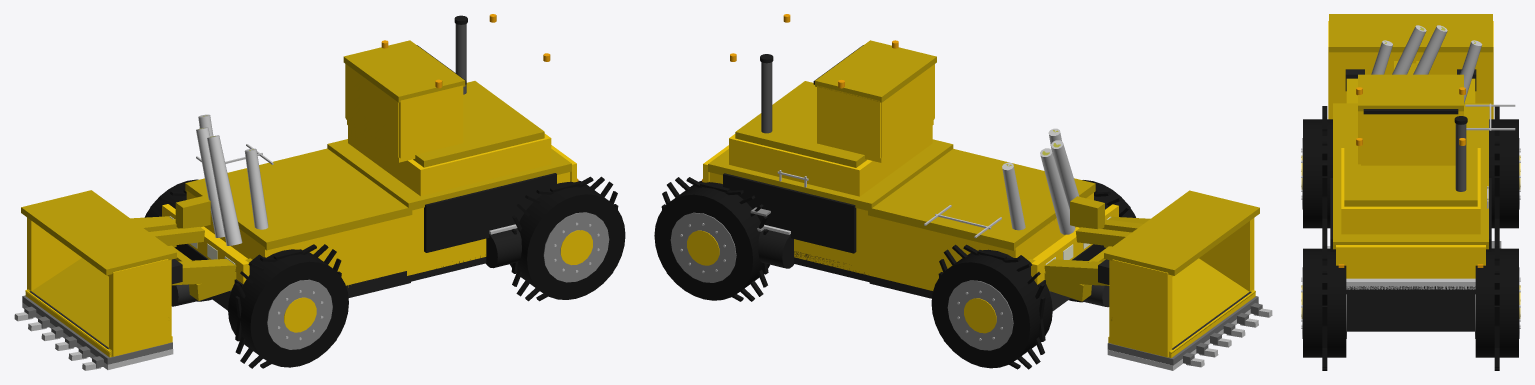
Rendered from cat_994k_loader.obj.
The picture shows the model from 3 angles, left to right: view 1: azimuth 30°, elevation 25°; view 2: azimuth 150°, elevation 25°; view 3: azimuth 270°, elevation 25°; orthographic projection. The views are drawn at different scales.
Size of the model in its own units: 20.89 by 8.8 by 7.87.
